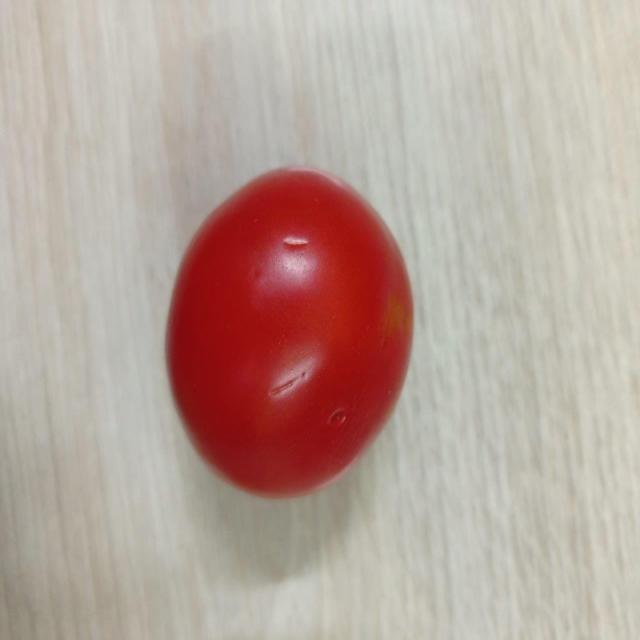Tomato: (162, 159, 416, 500)
